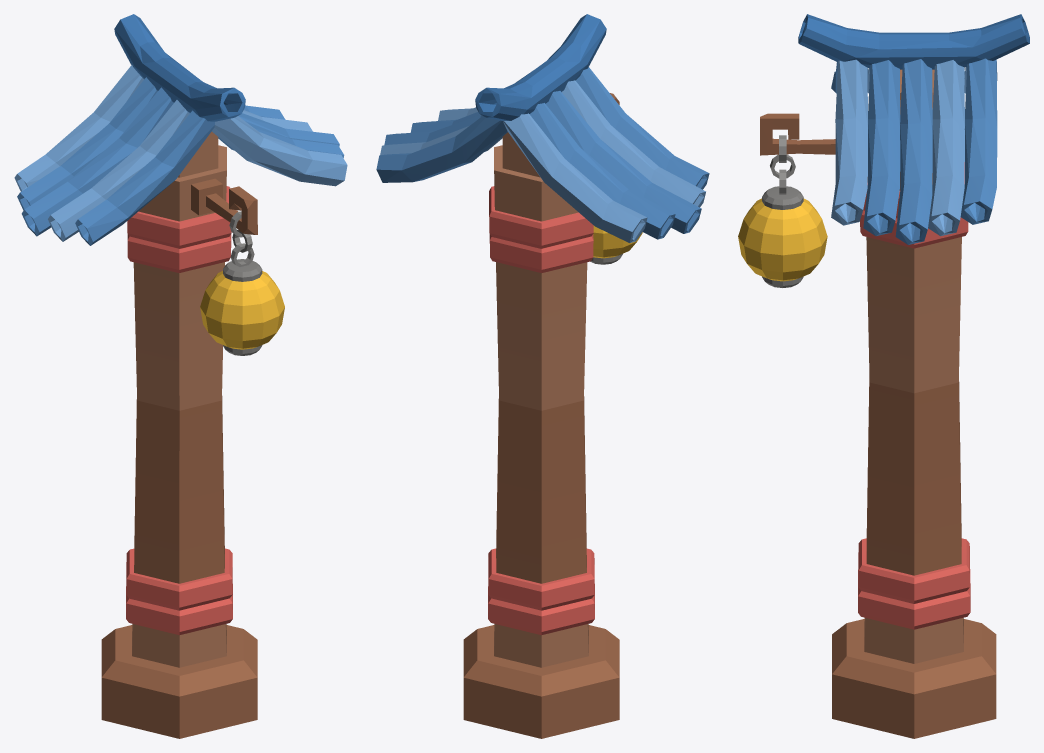
File: diorama_1.fbx
3 renders of one model, left to right at view 1: azimuth 30°, elevation 25°; view 2: azimuth 150°, elevation 25°; view 3: azimuth 270°, elevation 25°, orthographic. The views are drawn at different scales.
Parts seen in each view (by area): view 1: diorama_1; view 2: diorama_1; view 3: diorama_1.
Boxes of the visible parts, left/top/right/bottom form: diorama_1: left=14, top=14, right=347, bottom=738; diorama_1: left=376, top=14, right=709, bottom=738; diorama_1: left=738, top=14, right=1029, bottom=738.
Bounding box in the file's own units: 197 × 395 × 153.
